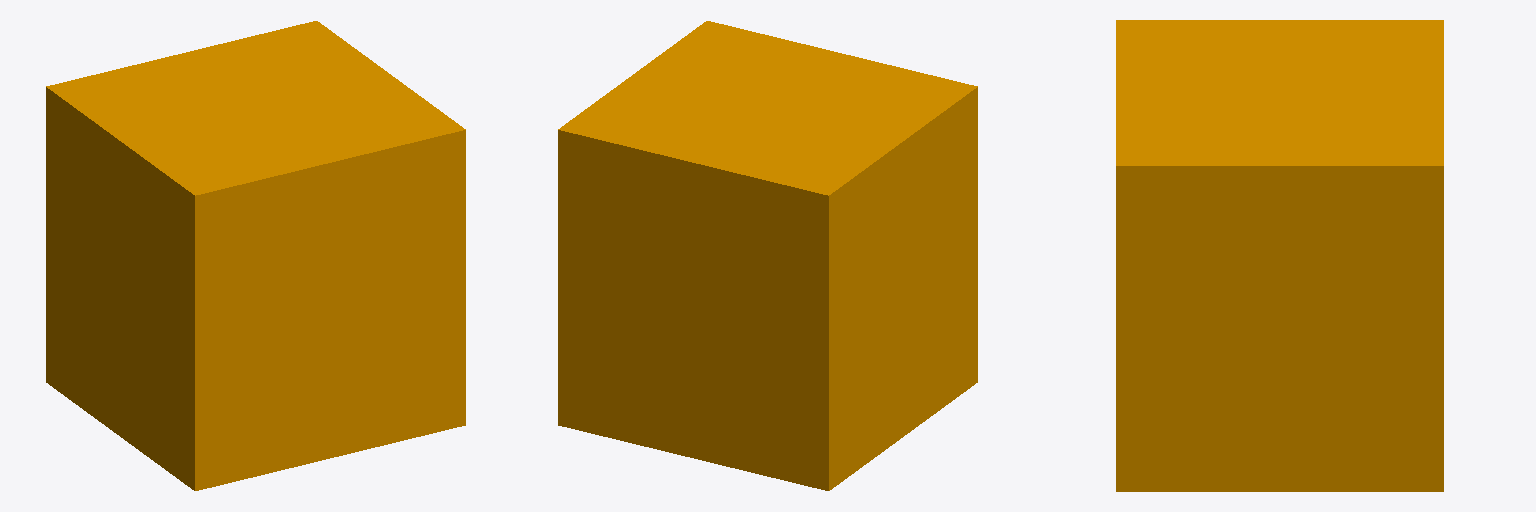
The robot description file, URDF, robot "cube":
<?xml version="1.0"?>
<robot name="cube">

<link name="base_link">
  <collision>
    <origin xyz="0 0 0.5" rpy="0 0 0"/>
    <geometry>
      <box size="0.472 0.450 0.492"/>
    </geometry>
  </collision>

  <visual>
    <origin xyz="0 0 0.5" rpy="0 0 0"/>
    <geometry>
      <box size="0.472 0.450 0.492"/>
    </geometry>
  </visual>

  <inertial>
    <origin xyz="0 0 0.5" rpy="0 0 0"/>
    <mass value="1"/>
    <inertia
      ixx="1.0" ixy="0.0" ixz="0.0"
      iyy="1.0" iyz="0.0"
      izz="1.0"/>
  </inertial>
</link>

<gazebo reference="base_link">
  <mu1>0</mu1>
  <mu2>0</mu2>
  <material>Gazebo/FlatBlack</material>
</gazebo>



</robot>

--- Render facts (derived) ---
3 views of the same robot in one strip: view 1: azimuth 30°, elevation 25°; view 2: azimuth 150°, elevation 25°; view 3: azimuth 270°, elevation 25° (orthographic).
Robot: cube — 1 links, 0 joints (none); root link base_link; default pose: every joint at zero.
Links seen in each view (by area): view 1: base_link; view 2: base_link; view 3: base_link.
Link boxes in pixels (bbox=[...]): base_link: bbox=[46, 21, 465, 490]; base_link: bbox=[558, 21, 977, 490]; base_link: bbox=[1116, 20, 1443, 491].
Bounding box of the posed robot: 0.472 × 0.45 × 0.492 m (x, y, z).
Geometry: primitives only (box / cylinder / sphere), no mesh files.
